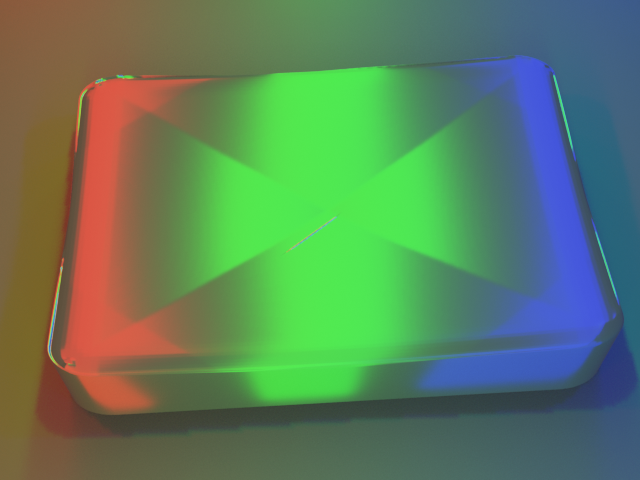scratch: (191, 165, 430, 301)
smash: (0, 0, 639, 479)
